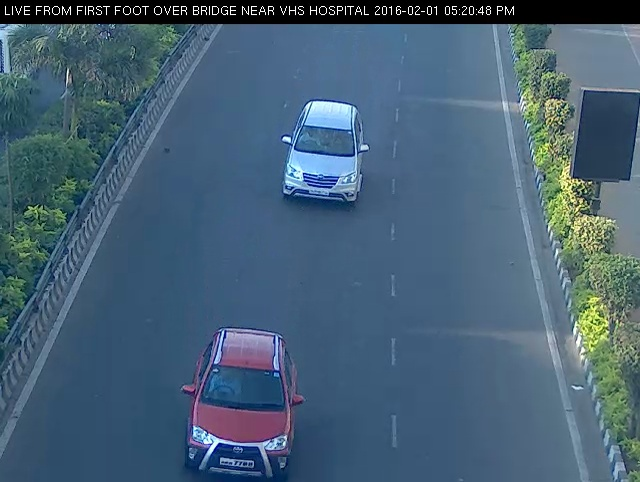Car: (176, 324, 307, 480), (274, 89, 373, 218)
